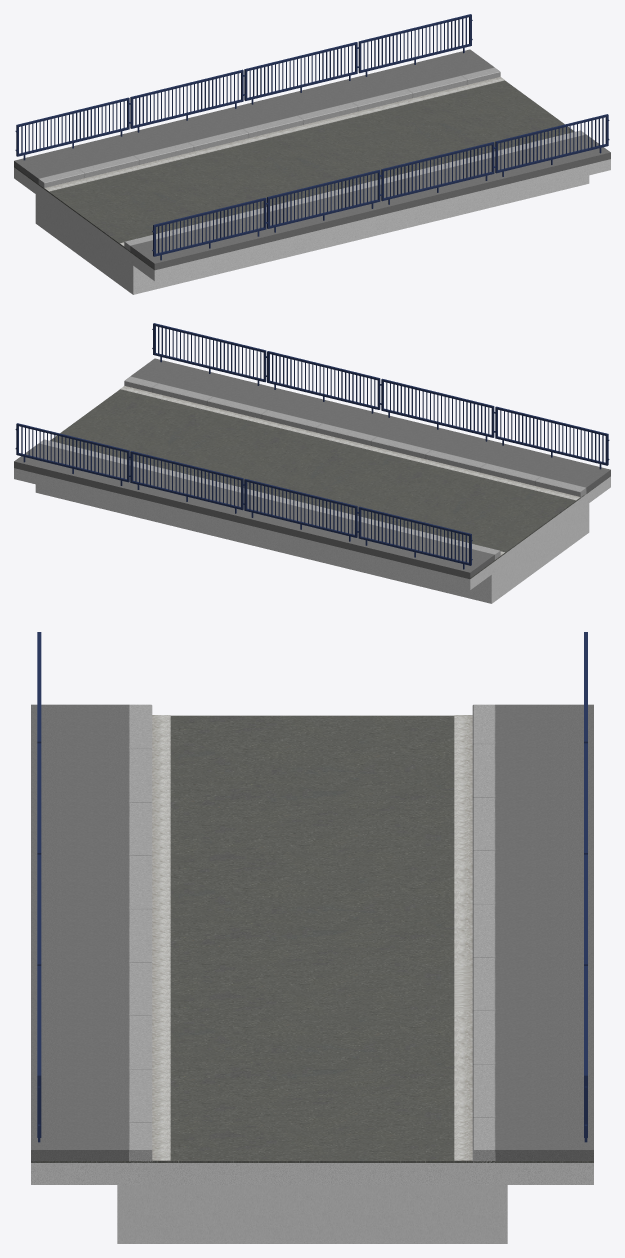
File: pont1Voie.obj
The picture shows the model from 3 angles, top to bottom: view 1: azimuth 30°, elevation 25°; view 2: azimuth 150°, elevation 25°; view 3: azimuth 270°, elevation 25°; orthographic projection. The views are drawn at different scales.
Visible parts, largest first — view 1: pont1Voie_Plane.041, balustrade1Voie_Plane.046; view 2: pont1Voie_Plane.041, balustrade1Voie_Plane.046; view 3: pont1Voie_Plane.041, balustrade1Voie_Plane.046.
Boxes of the visible parts, x1=… form: pont1Voie_Plane.041: x1=14, y1=49, x2=610, y2=294; balustrade1Voie_Plane.046: x1=15, y1=14, x2=609, y2=260; pont1Voie_Plane.041: x1=14, y1=358, x2=610, y2=603; balustrade1Voie_Plane.046: x1=15, y1=323, x2=609, y2=569; pont1Voie_Plane.041: x1=31, y1=704, x2=593, y2=1243; balustrade1Voie_Plane.046: x1=37, y1=632, x2=587, y2=1142.
Bounding box in the file's own units: 1300 × 228 × 695.
